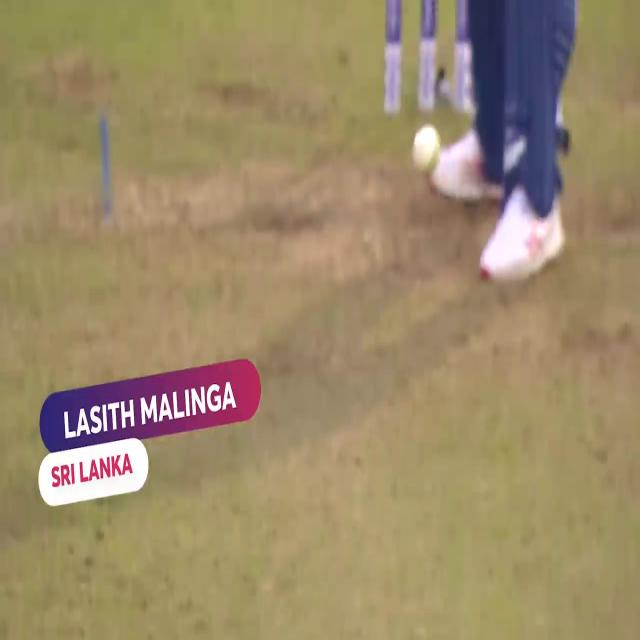ball: (409, 123, 441, 176)
